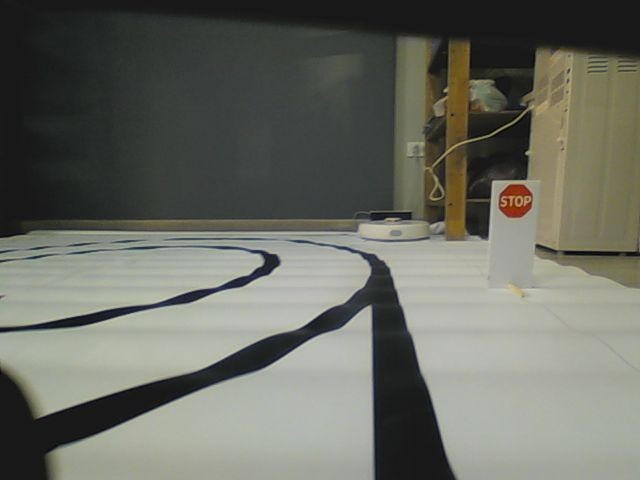Stop: (497, 183, 534, 219)
